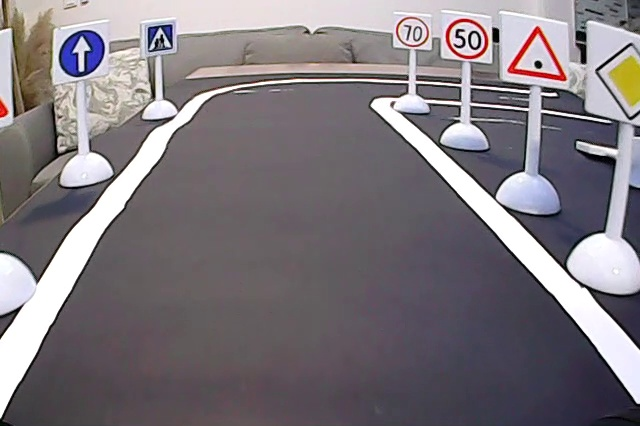green light: (503, 21, 569, 84)
school crossing: (143, 22, 177, 56)
speed limit 50: (442, 16, 492, 63)
speed limit 70: (394, 15, 432, 50)
